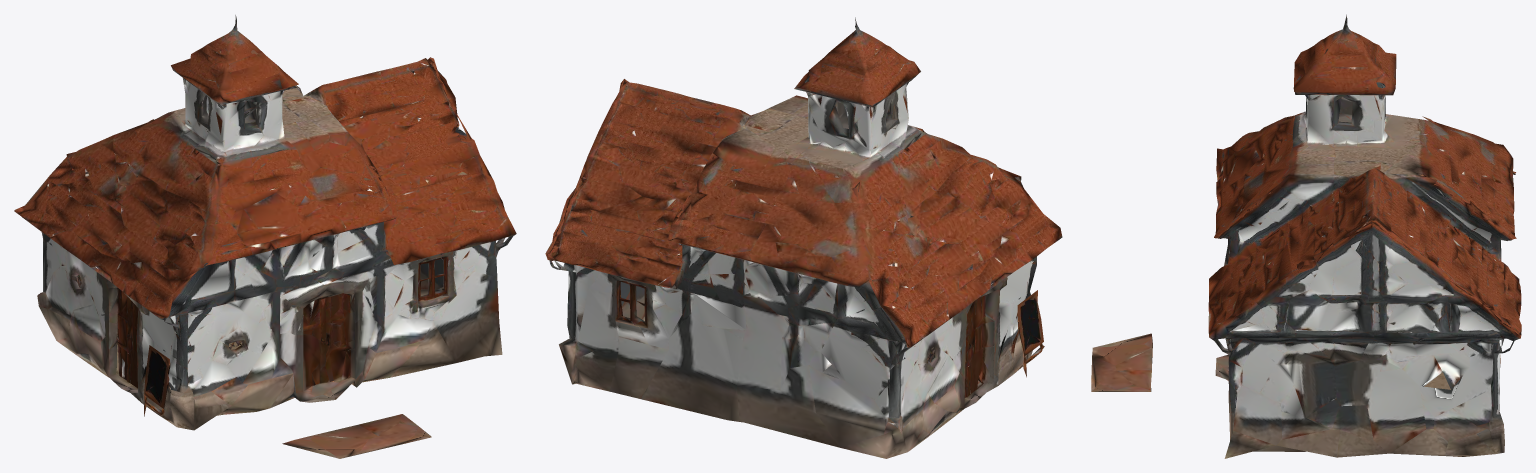
The model's file is schule.glb.
3 renders of one model, left to right at view 1: azimuth 30°, elevation 25°; view 2: azimuth 150°, elevation 25°; view 3: azimuth 270°, elevation 25°, orthographic. The views are drawn at different scales.
Size of the model in its own units: 1.77 by 1.67 by 1.88.
Materials: 1 (1 with a texture image).
